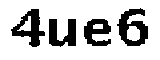4: (8, 6, 45, 50)
6: (115, 5, 151, 52)
e: (83, 13, 114, 49)
u: (46, 14, 84, 50)
